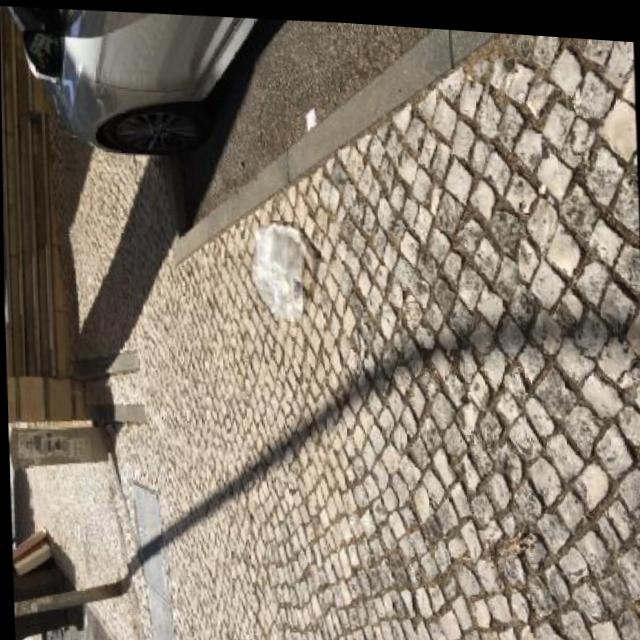plastic: (250, 219, 311, 325)
